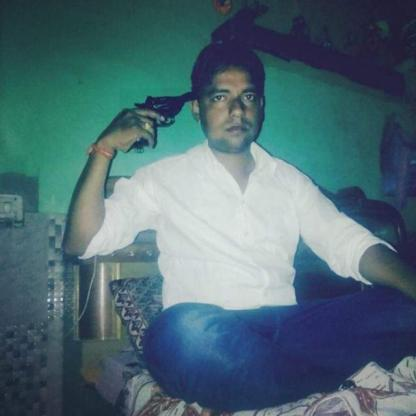handgun: (119, 87, 208, 153)
